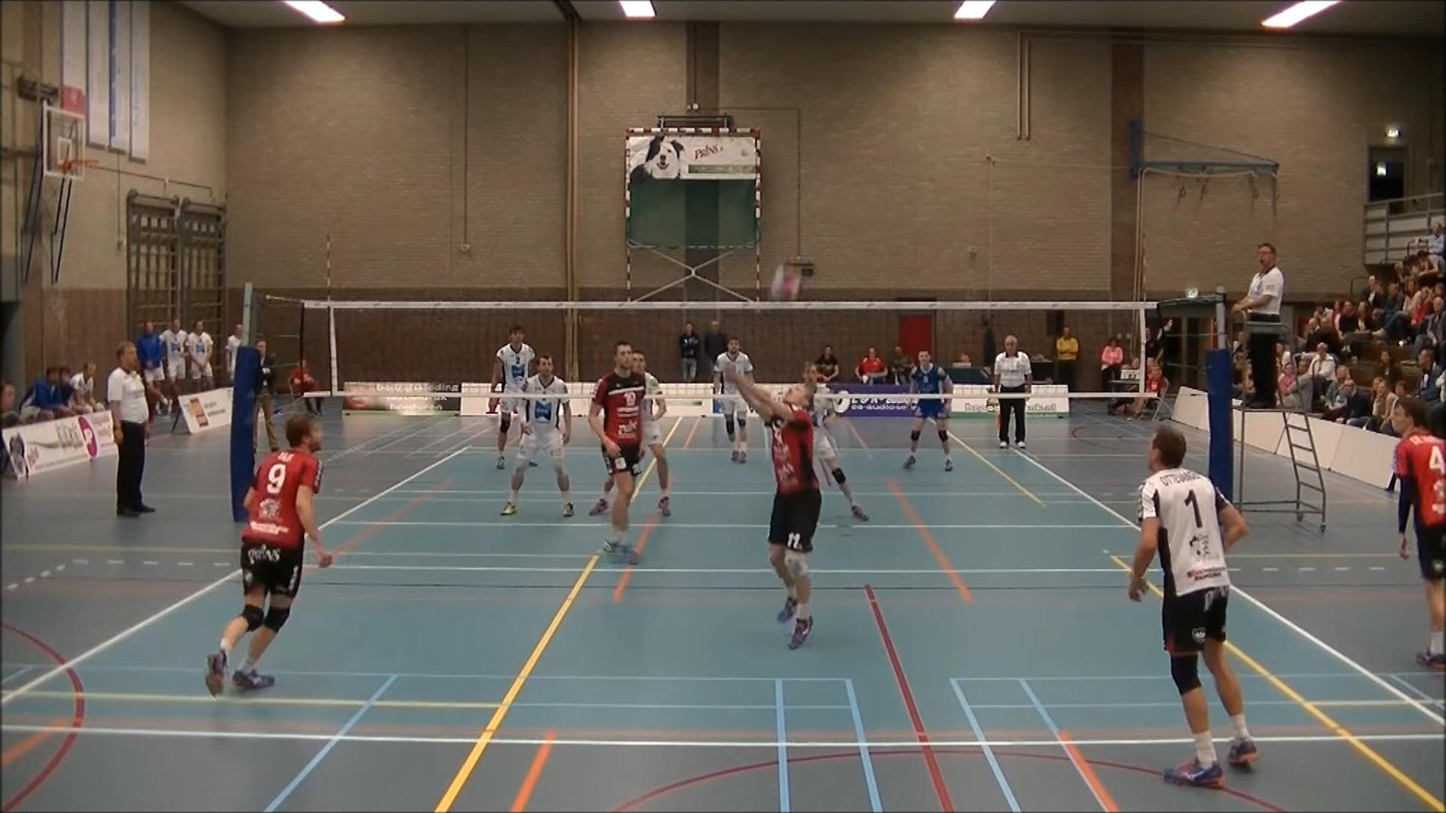Player: (1128, 428, 1257, 787), (205, 415, 332, 696), (1391, 397, 1445, 669), (588, 341, 645, 564), (502, 355, 573, 516), (804, 363, 868, 521), (491, 325, 535, 469), (633, 350, 670, 516), (905, 350, 953, 470), (713, 339, 752, 462)
Set: (706, 357, 833, 651)
ball: (768, 261, 808, 301)
